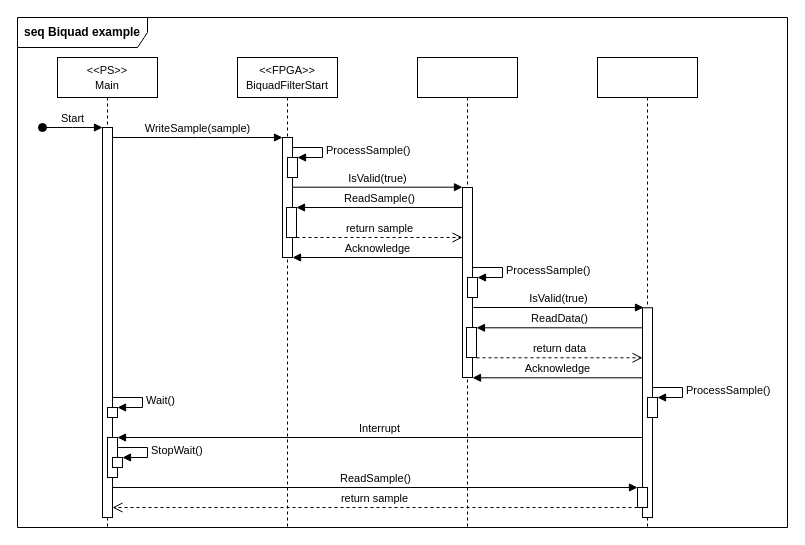
This 805x545 diagram has some shape labels left out. The shapes that lost their labels are listed below. From the top down, each one's centre as x and y in pixels, then its label:
At (467,292): "<<FPGA>> BiquadFilterBetween0".
At (647,292): "<<FPGA>> BiquadFilterEnd".
